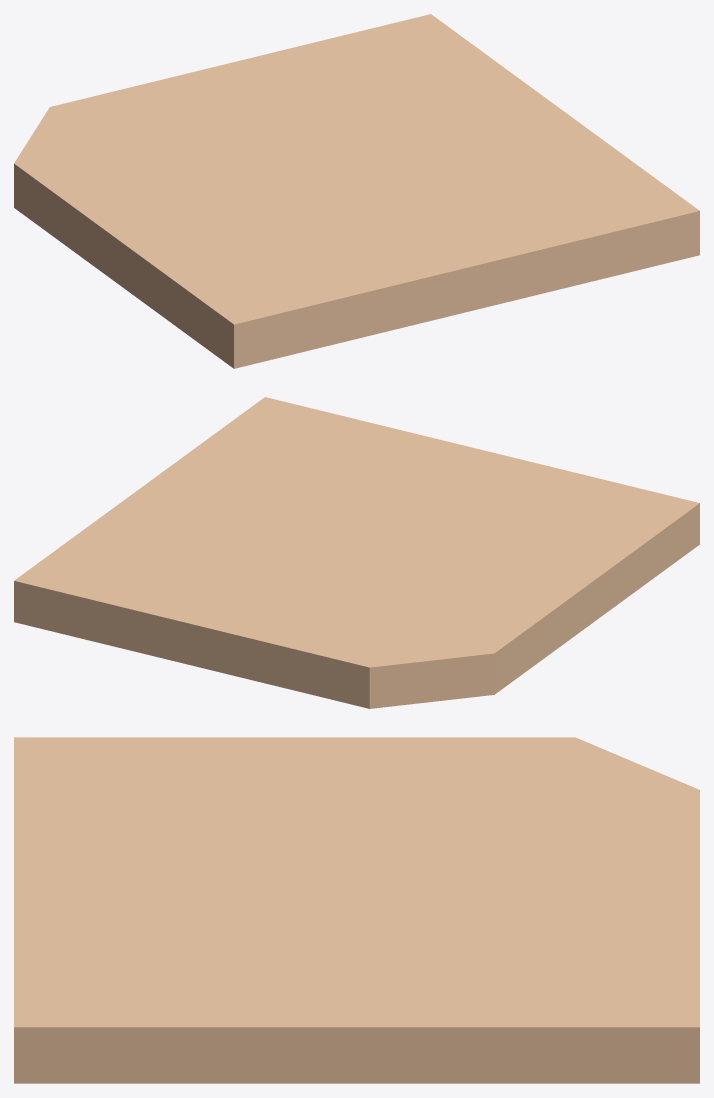
The model's file is floorCornerBi.fbx.
3 renders of one model, top to bottom at view 1: azimuth 30°, elevation 25°; view 2: azimuth 150°, elevation 25°; view 3: azimuth 270°, elevation 25°, orthographic. The views are drawn at different scales.
Visible parts, largest first — view 1: floorCorner; view 2: floorCorner; view 3: floorCorner.
Boxes of the visible parts, bbox=[...] form: floorCorner: bbox=[14, 14, 699, 368]; floorCorner: bbox=[14, 397, 699, 708]; floorCorner: bbox=[14, 737, 699, 1083].
Size of the model in its own units: 550 by 50 by 550.
